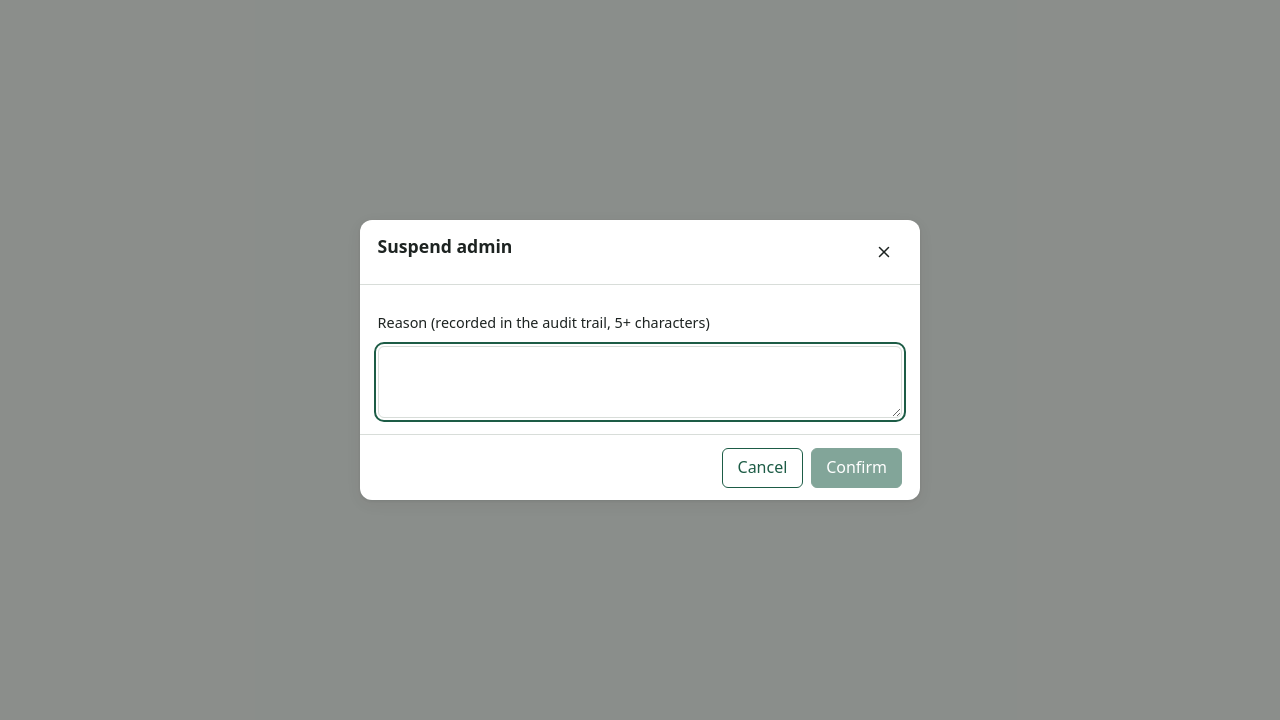
Test: ReasonDialog › stays open and shows the server refusal
Type "Testing the guard" into the text box labelled "Reason (recorded in the audit trail, 5+ characters)" at [640, 382], box [378, 346, 902, 418]
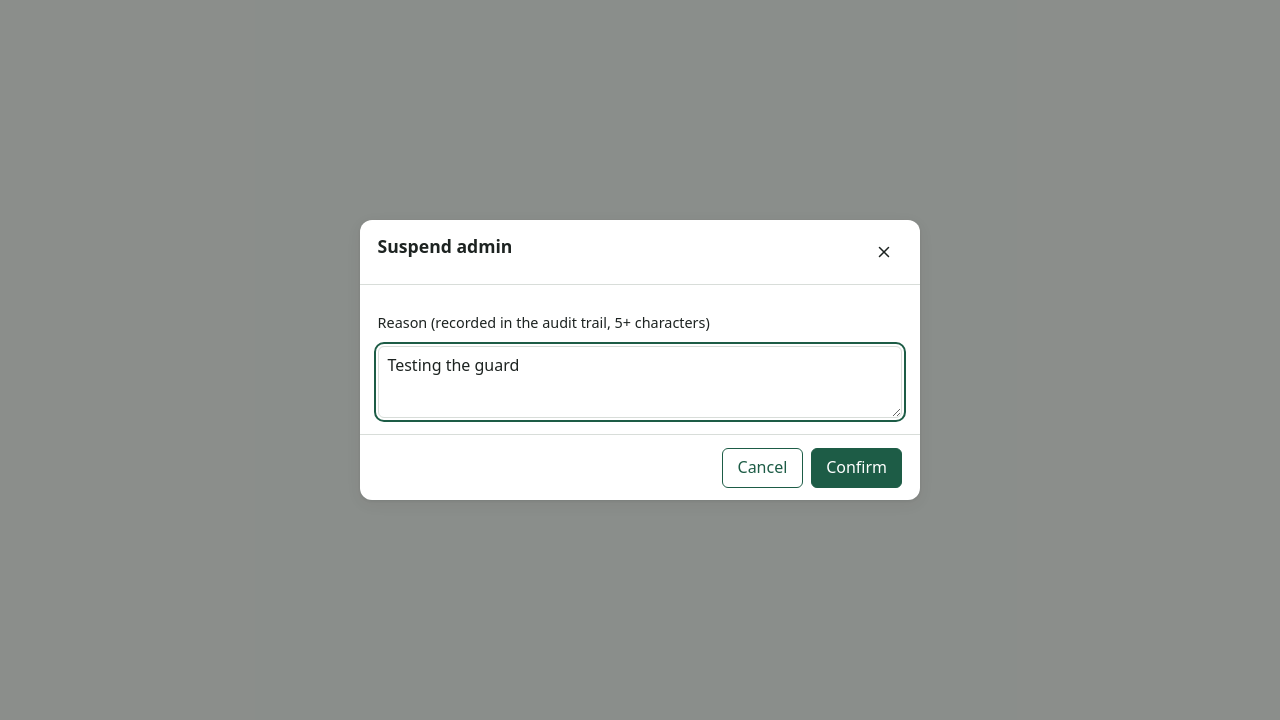
Click the button "Confirm" at [857, 468], box [811, 448, 902, 488]
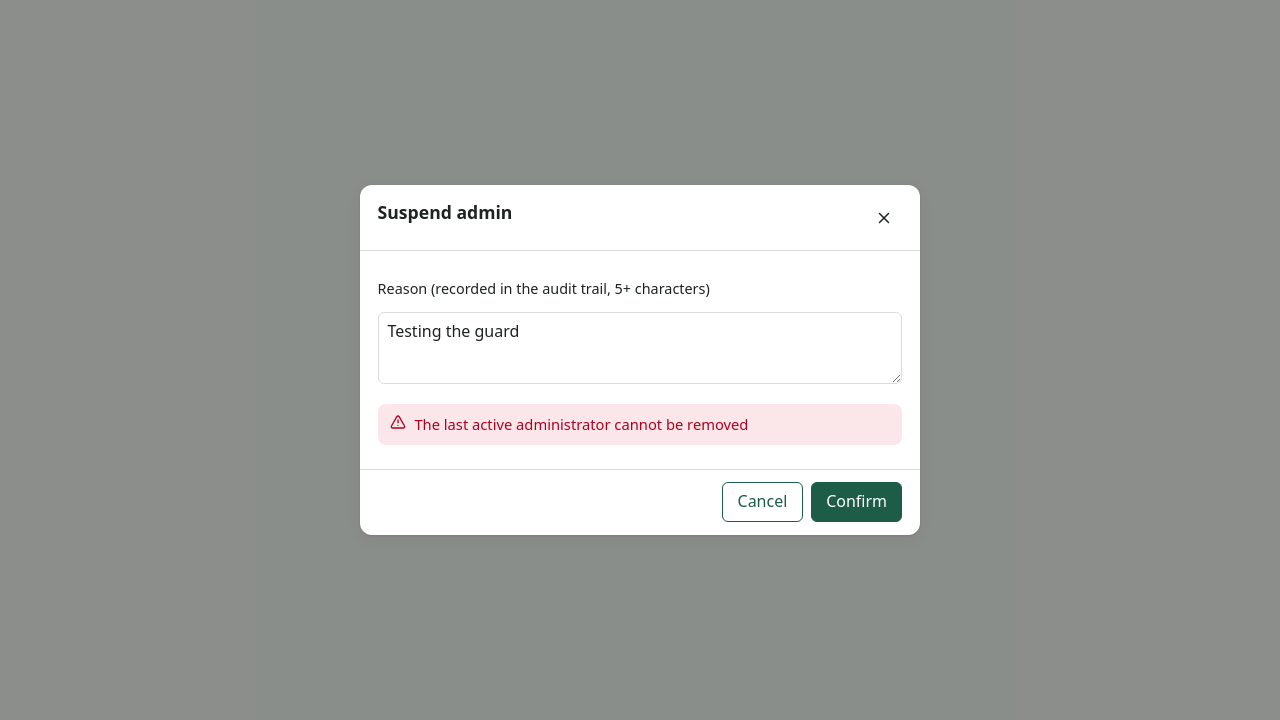
Expected: the dialog "Suspend admin" is shown, [360, 185, 920, 535]
Result: the text "The last active administrator cannot be removed" is shown at [414, 414, 748, 435]
